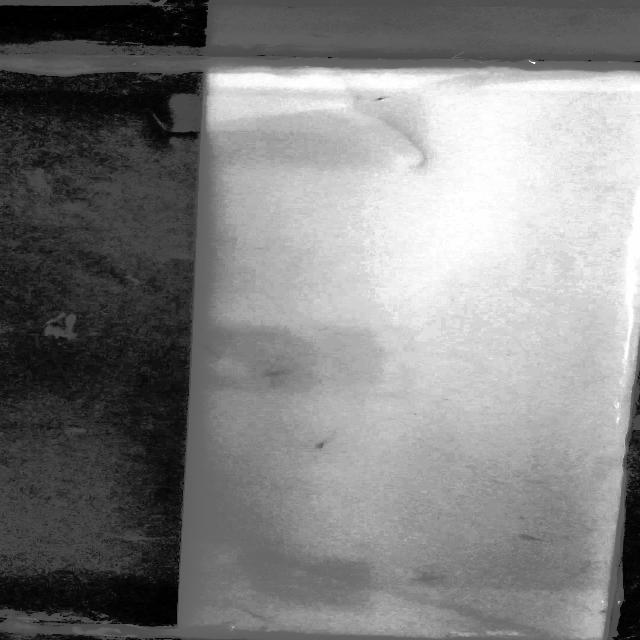shrimp: (510, 532, 551, 548), (252, 367, 287, 381), (367, 93, 404, 104), (195, 340, 213, 354)
